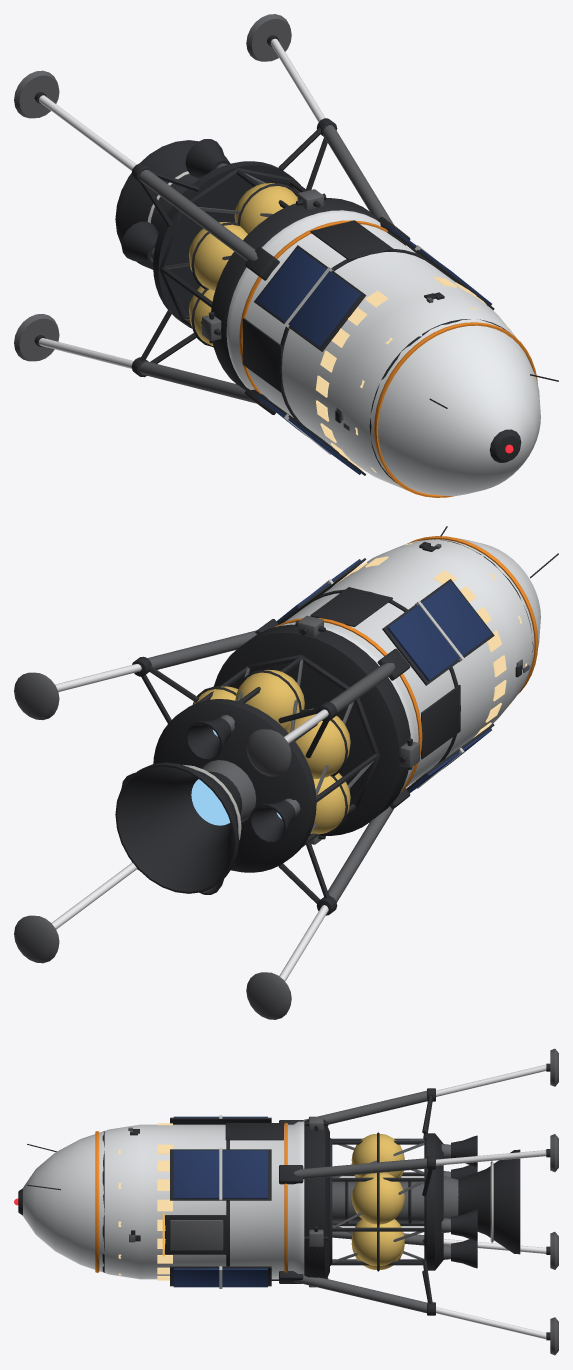
Rendered from seed.glb.
3 renders of one model, top to bottom at view 1: azimuth 30°, elevation 25°; view 2: azimuth 150°, elevation 25°; view 3: azimuth 270°, elevation 25°, orthographic. The views are drawn at different scales.
Visible parts, largest first — view 1: seed; view 2: seed; view 3: seed.
Part boxes in pixels (bbox=[...]): seed: bbox=[14, 14, 558, 497]; seed: bbox=[14, 526, 558, 1019]; seed: bbox=[14, 1048, 558, 1355].
Bounding box in the file's own units: 4.97 × 4.97 × 11.25.
